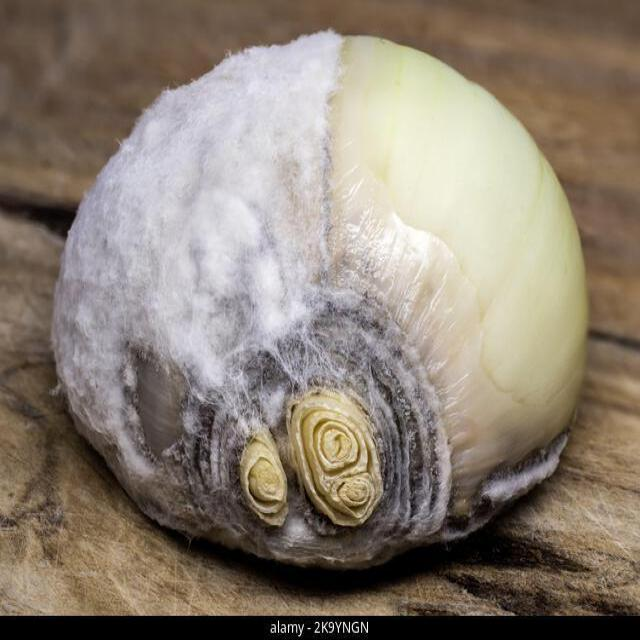Onion: (47, 30, 628, 576)
